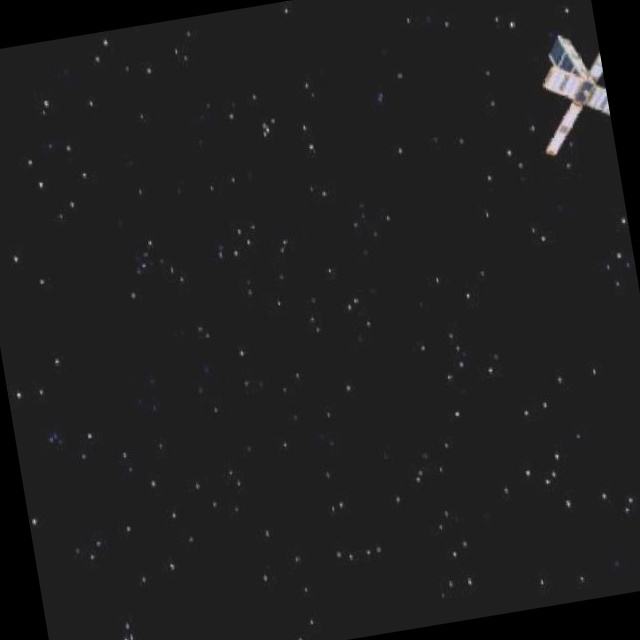satellite: (529, 23, 617, 164)
